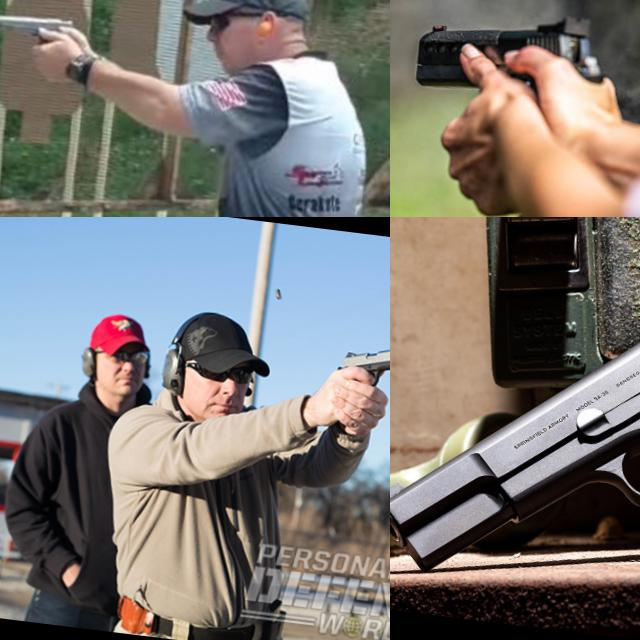handgun: (390, 221, 640, 639), (390, 0, 619, 217), (0, 5, 81, 58), (334, 338, 390, 395)
